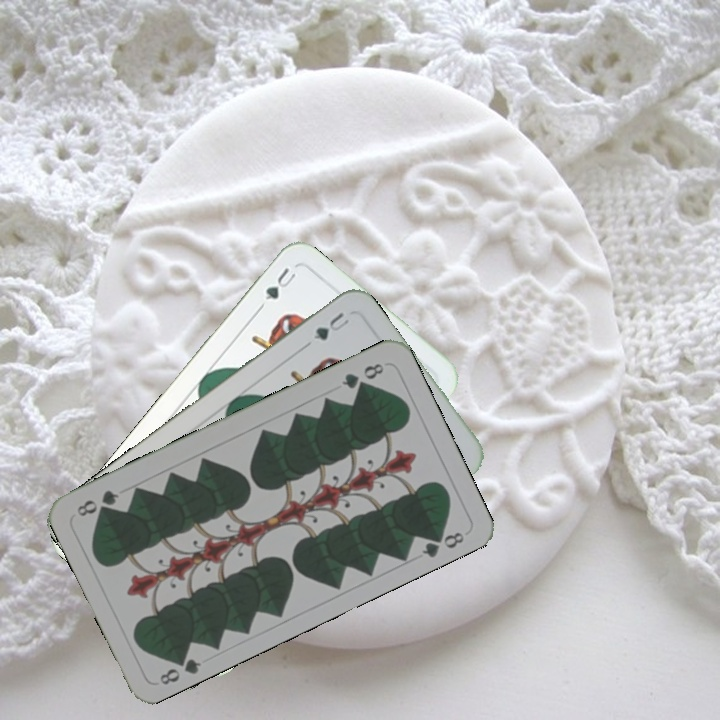G8: (155, 649, 204, 688), (337, 359, 387, 392)
GU: (260, 263, 300, 303), (309, 308, 352, 343)
